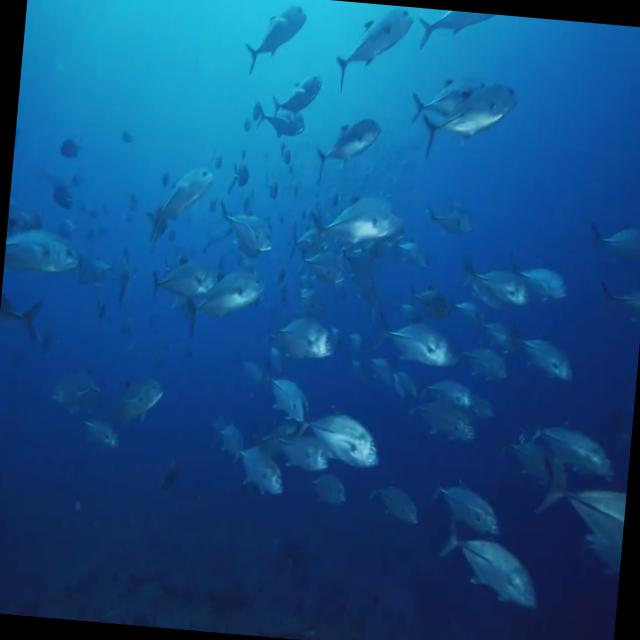fish: (418, 55, 526, 166), (532, 454, 629, 576), (431, 517, 550, 616), (308, 168, 411, 260), (277, 397, 387, 472), (312, 97, 392, 196), (1, 200, 80, 300), (332, 0, 412, 96), (147, 144, 225, 241), (182, 254, 273, 335), (530, 411, 626, 484), (140, 228, 221, 310), (368, 306, 472, 367), (205, 180, 276, 258), (264, 296, 340, 366), (239, 0, 308, 77), (0, 267, 64, 349), (51, 339, 114, 414), (411, 8, 501, 60), (436, 466, 508, 530), (223, 436, 295, 499), (363, 470, 425, 535), (254, 359, 312, 428), (452, 252, 526, 306), (247, 96, 316, 150), (510, 246, 575, 302), (512, 332, 582, 384), (589, 195, 640, 264), (272, 60, 332, 118), (76, 394, 125, 464), (125, 365, 174, 425), (597, 257, 640, 319), (420, 190, 475, 233)
